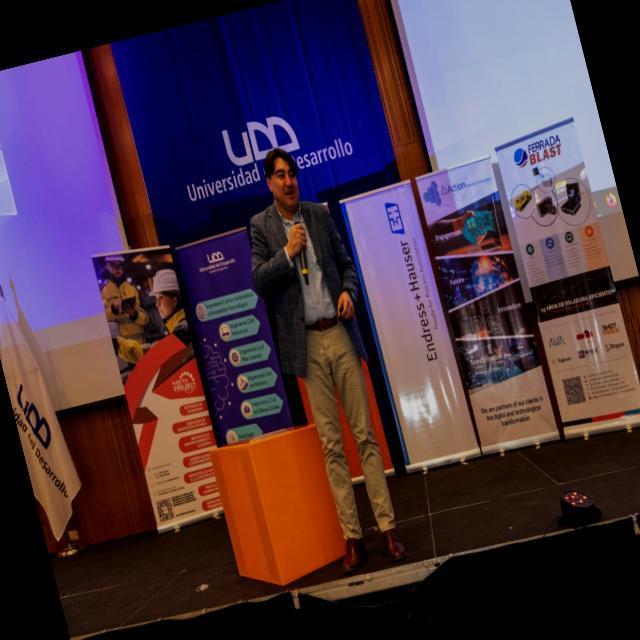person: (230, 138, 444, 579)
